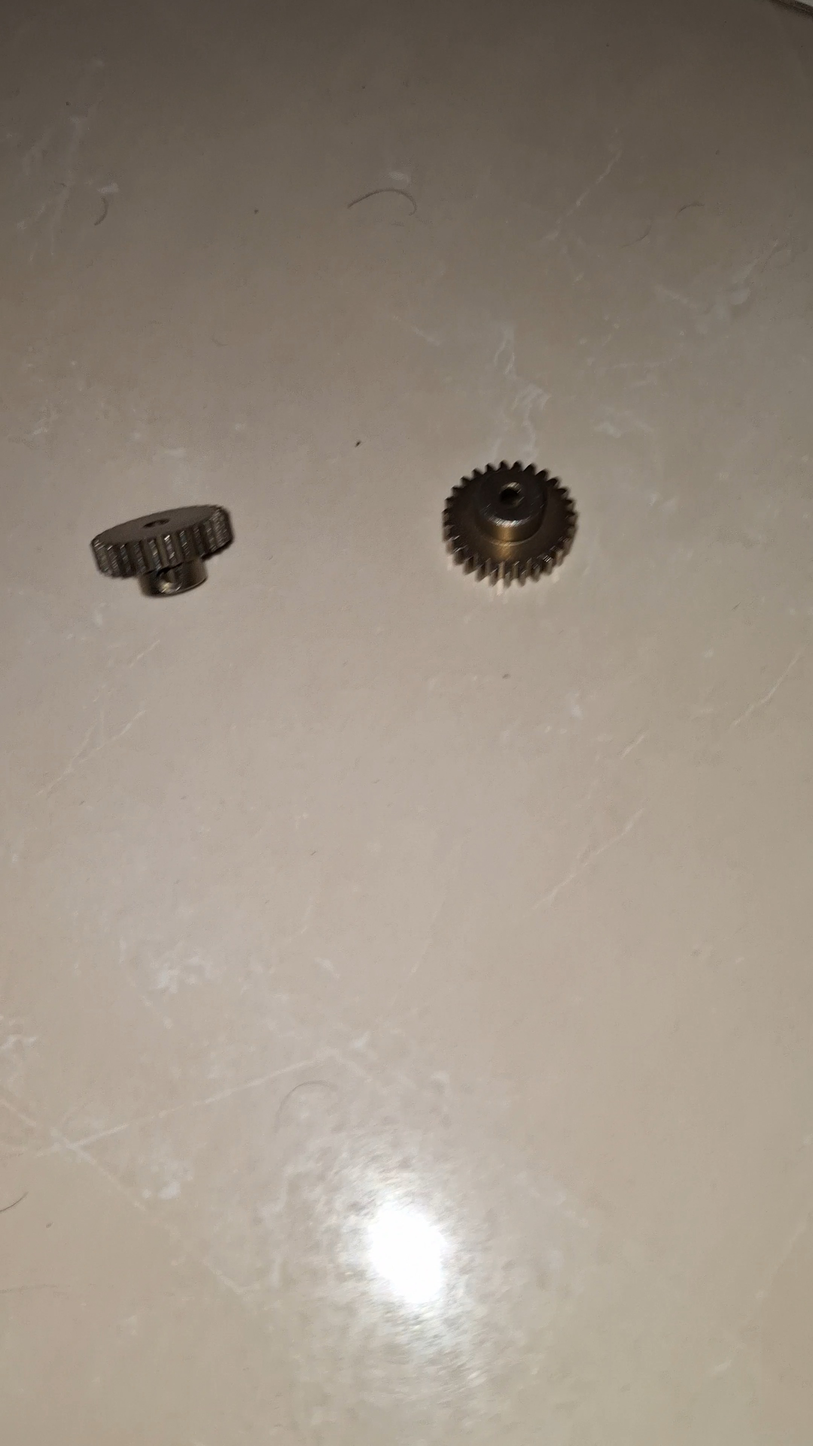spur gear: (443, 462, 577, 583), (91, 506, 232, 596), (778, 0, 813, 14)
